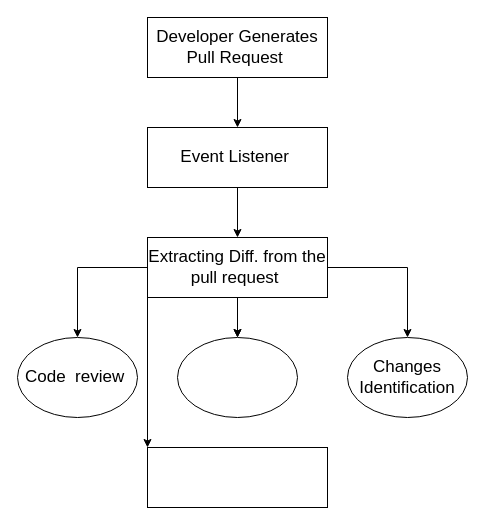
This 485x525 diagram has some shape labels left out. The centre of each missing label's shape, as x and y in pixels:
Bug detection: pixel 237 377
Review Generation: pixel 237 477
